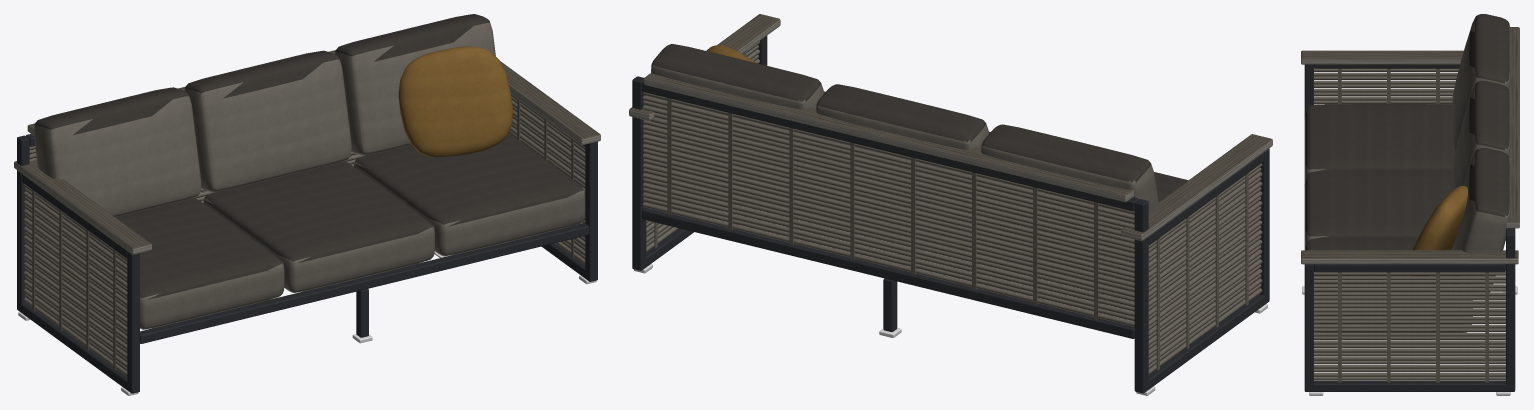
File: terrace_sofa.glb
3 views of the same model, side by side, from view 1: azimuth 30°, elevation 25°; view 2: azimuth 150°, elevation 25°; view 3: azimuth 270°, elevation 25° (orthographic). The views are drawn at different scales.
Parts seen in each view (by area): view 1: back_c_fabric_outdoor_stone_1, seat_c_fabric_outdoor_wet_0, back_r_fabric_outdoor_stone_1, frame_powdercoat_graphite_1, seat_l_fabric_outdoor_wet_0, side_r_rope_woven_0, pillow_fabric_outdoor_ochre_0, seat_r_fabric_outdoor_wet_0, back_l_fabric_outdoor_stone_1, seat_c_fabric_outdoor_stone_1, seat_l_fabric_outdoor_stone_1, seat_r_fabric_outdoor_stone_1 (+10 smaller); view 2: back_panel_rope_woven_0, frame_powdercoat_graphite_1, side_r_rope_woven_0, back_panel_rope_woven_1, back_r_fabric_outdoor_wet_0, back_l_fabric_outdoor_wet_0, back_c_fabric_outdoor_wet_0, cap_back_wood_teak_wet_0, cap_back_wood_teak_weathered_1, frame_powdercoat_graphite_wet_0, cap_r_wood_teak_wet_0, back_r_fabric_outdoor_stone_1 (+6 smaller); view 3: side_l_rope_woven_0, seat_r_fabric_outdoor_wet_0, seat_c_fabric_outdoor_wet_0, frame_powdercoat_graphite_1, side_r_rope_woven_0, back_l_fabric_outdoor_stone_1, back_c_fabric_outdoor_wet_0, back_l_fabric_outdoor_wet_0, back_r_fabric_outdoor_wet_0, seat_l_fabric_outdoor_wet_0, pillow_fabric_outdoor_ochre_0, cap_back_wood_teak_wet_0 (+14 smaller).
Part boxes in pixels (x1=…): back_c_fabric_outdoor_stone_1: x1=184, y1=59, x2=351, y2=192; seat_c_fabric_outdoor_wet_0: x1=205, y1=161, x2=432, y2=262; back_r_fabric_outdoor_stone_1: x1=34, y1=96, x2=201, y2=217; frame_powdercoat_graphite_1: x1=17, y1=135, x2=597, y2=393; seat_l_fabric_outdoor_wet_0: x1=355, y1=133, x2=583, y2=226; side_r_rope_woven_0: x1=23, y1=184, x2=127, y2=376; pillow_fabric_outdoor_ochre_0: x1=398, y1=46, x2=512, y2=157; seat_r_fabric_outdoor_wet_0: x1=116, y1=198, x2=282, y2=299; back_l_fabric_outdoor_stone_1: x1=335, y1=22, x2=495, y2=155; seat_c_fabric_outdoor_stone_1: x1=203, y1=198, x2=434, y2=292; seat_l_fabric_outdoor_stone_1: x1=354, y1=161, x2=585, y2=256; seat_r_fabric_outdoor_stone_1: x1=140, y1=262, x2=284, y2=329; back_panel_rope_woven_0: x1=642, y1=92, x2=1134, y2=326; frame_powdercoat_graphite_1: x1=632, y1=35, x2=1269, y2=393; side_r_rope_woven_0: x1=1148, y1=163, x2=1262, y2=374; back_panel_rope_woven_1: x1=667, y1=98, x2=1098, y2=319; back_r_fabric_outdoor_wet_0: x1=982, y1=124, x2=1151, y2=182; back_l_fabric_outdoor_wet_0: x1=652, y1=44, x2=821, y2=101; back_c_fabric_outdoor_wet_0: x1=817, y1=84, x2=986, y2=142; cap_back_wood_teak_wet_0: x1=644, y1=72, x2=1133, y2=195; cap_back_wood_teak_weathered_1: x1=644, y1=78, x2=1134, y2=202; frame_powdercoat_graphite_wet_0: x1=633, y1=76, x2=1263, y2=379; cap_r_wood_teak_wet_0: x1=1122, y1=134, x2=1272, y2=234; back_r_fabric_outdoor_stone_1: x1=981, y1=143, x2=1159, y2=217; side_l_rope_woven_0: x1=1314, y1=272, x2=1505, y2=380; seat_r_fabric_outdoor_wet_0: x1=1305, y1=104, x2=1453, y2=171; seat_c_fabric_outdoor_wet_0: x1=1305, y1=171, x2=1452, y2=238; frame_powdercoat_graphite_1: x1=1304, y1=64, x2=1515, y2=391; side_r_rope_woven_0: x1=1314, y1=68, x2=1458, y2=104; back_l_fabric_outdoor_stone_1: x1=1452, y1=151, x2=1511, y2=292; back_c_fabric_outdoor_wet_0: x1=1469, y1=81, x2=1509, y2=150; back_l_fabric_outdoor_wet_0: x1=1469, y1=148, x2=1509, y2=217; back_r_fabric_outdoor_wet_0: x1=1469, y1=14, x2=1509, y2=83; seat_l_fabric_outdoor_wet_0: x1=1305, y1=238, x2=1471, y2=300; pillow_fabric_outdoor_ochre_0: x1=1408, y1=185, x2=1467, y2=276; cap_back_wood_teak_wet_0: x1=1507, y1=27, x2=1519, y2=222.
Size of what is drawn, in the model's own units: 2.11 by 0.8611 by 0.935.
Materials: 10 (10 with a texture image).
